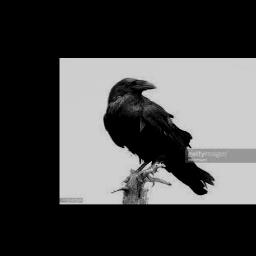Crow: (102, 77, 215, 196)
